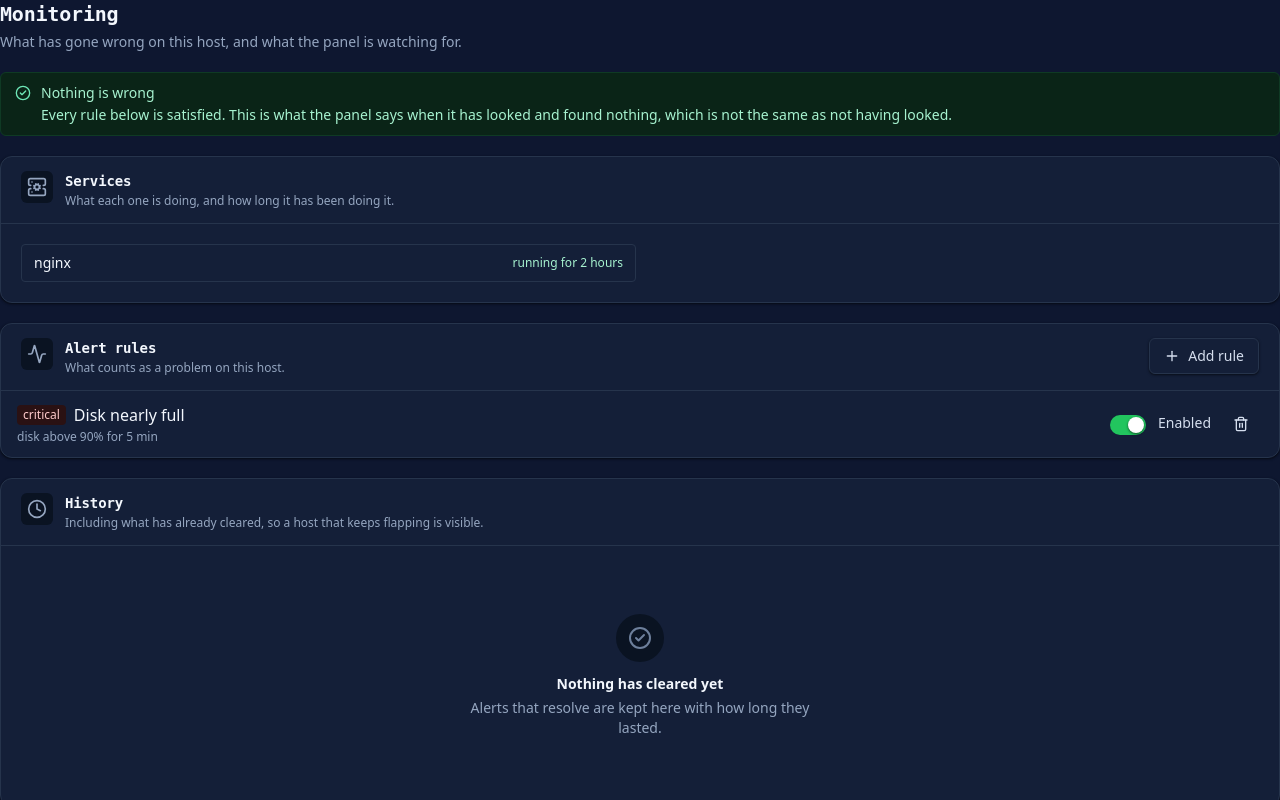
Test: MonitoringPage › shows the reason a rule was refused
Click the button "Add rule" at {"x": 1204, "y": 356}, box [1149, 338, 1259, 374]
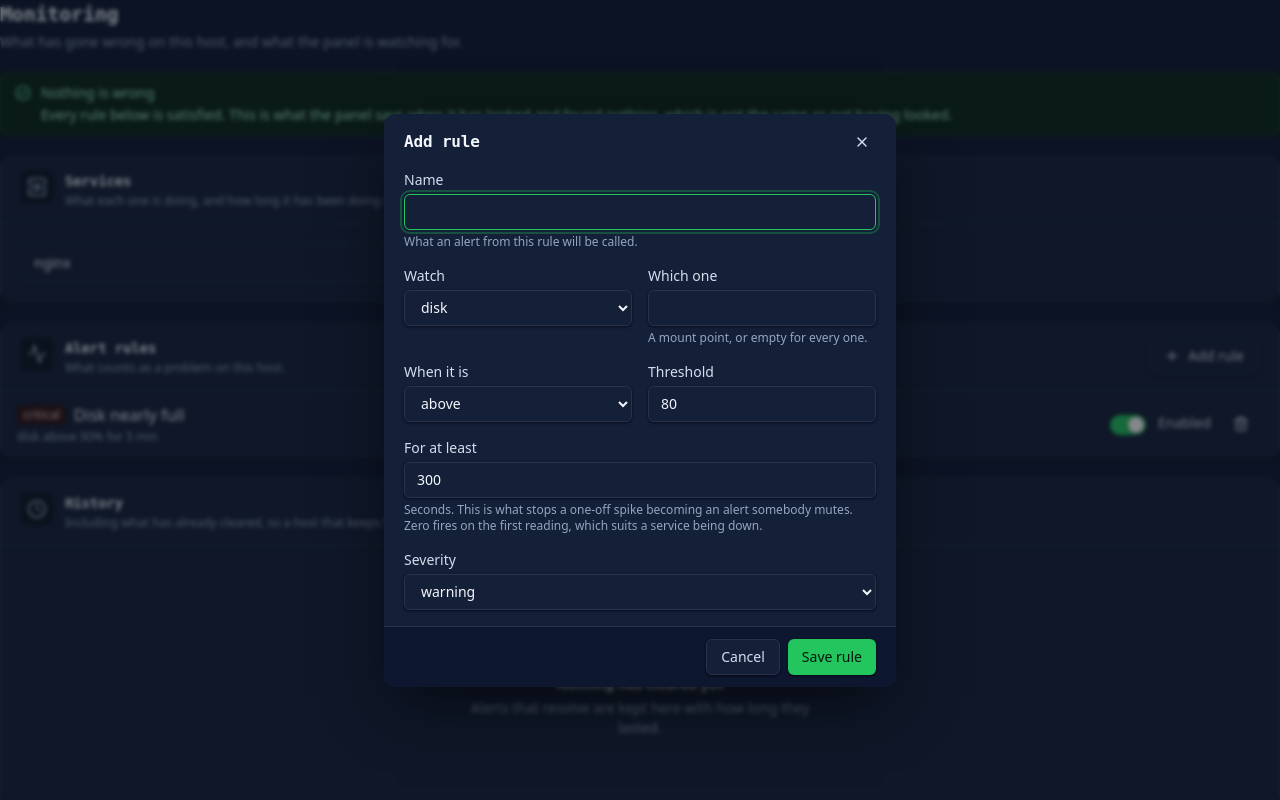
Type "Impossible" into the field labelled "Name" at {"x": 640, "y": 212}, box [404, 194, 876, 230]
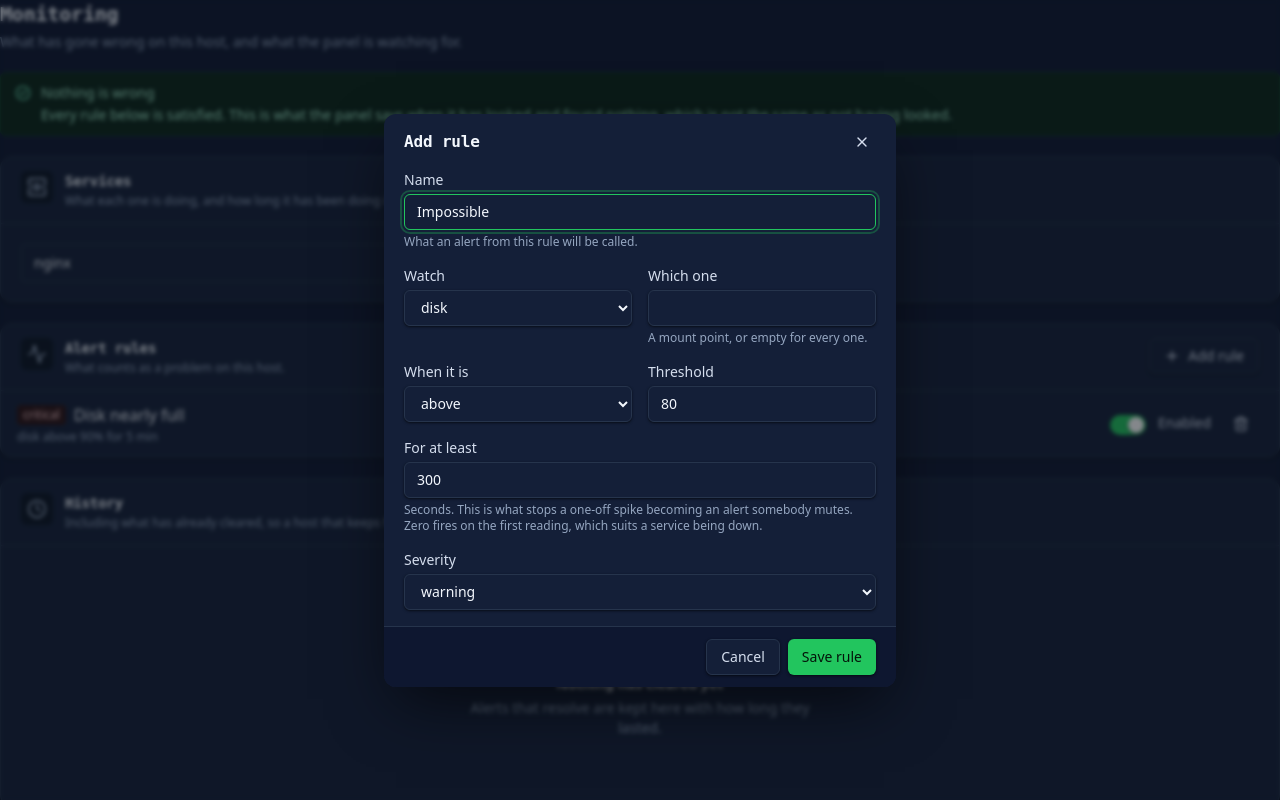
Click the button "Save rule" at {"x": 832, "y": 656}, box [788, 638, 876, 674]
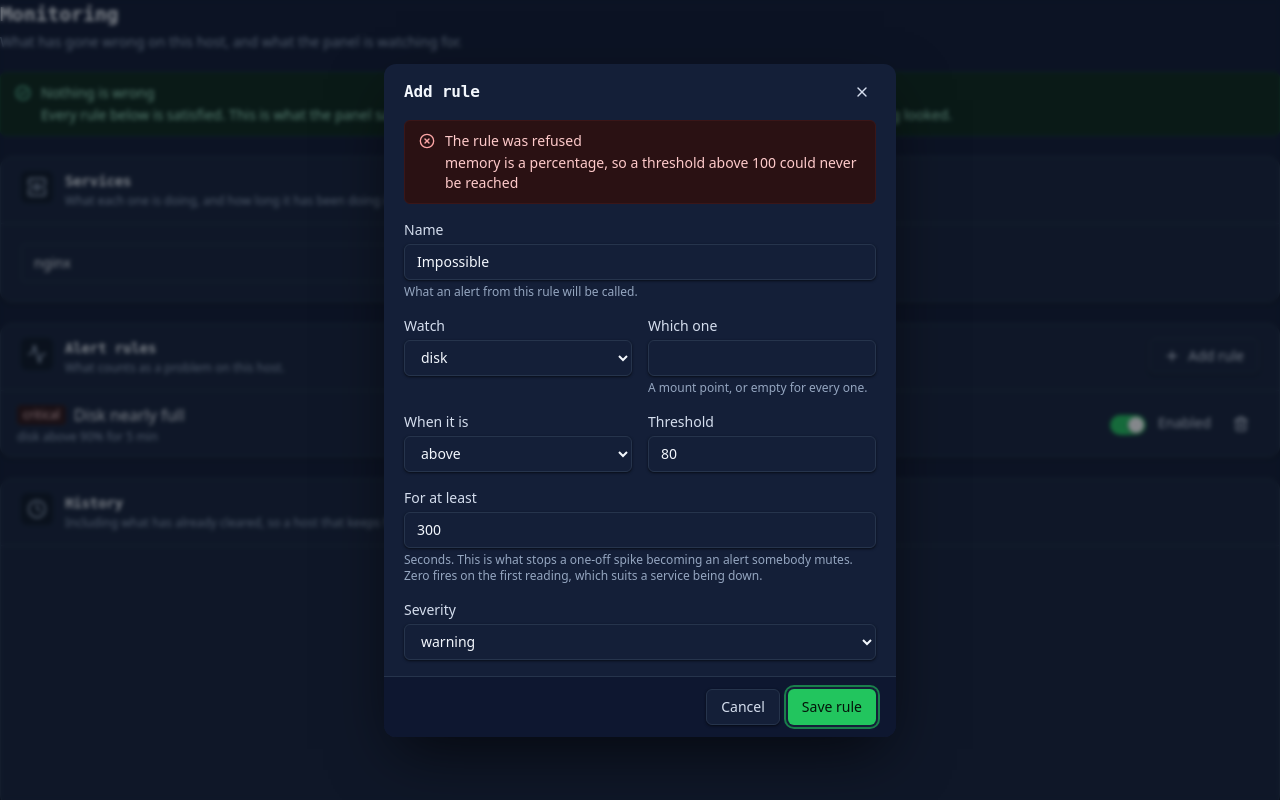
Expected: the text "could never be reached" is shown, [445, 152, 856, 192]
